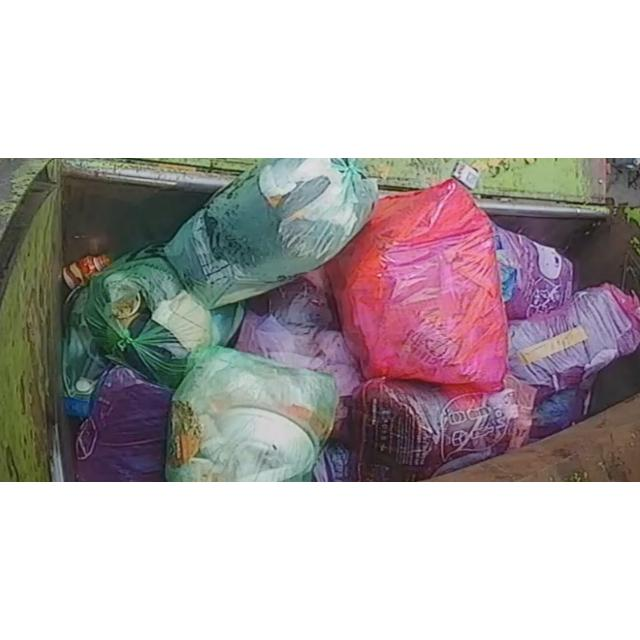general_trashbag: (164, 158, 378, 309), (166, 347, 338, 482), (84, 244, 242, 387)
other_trashbag: (326, 179, 508, 392), (354, 376, 536, 482), (235, 268, 362, 397), (509, 284, 640, 390), (75, 367, 171, 482), (494, 226, 572, 319)
